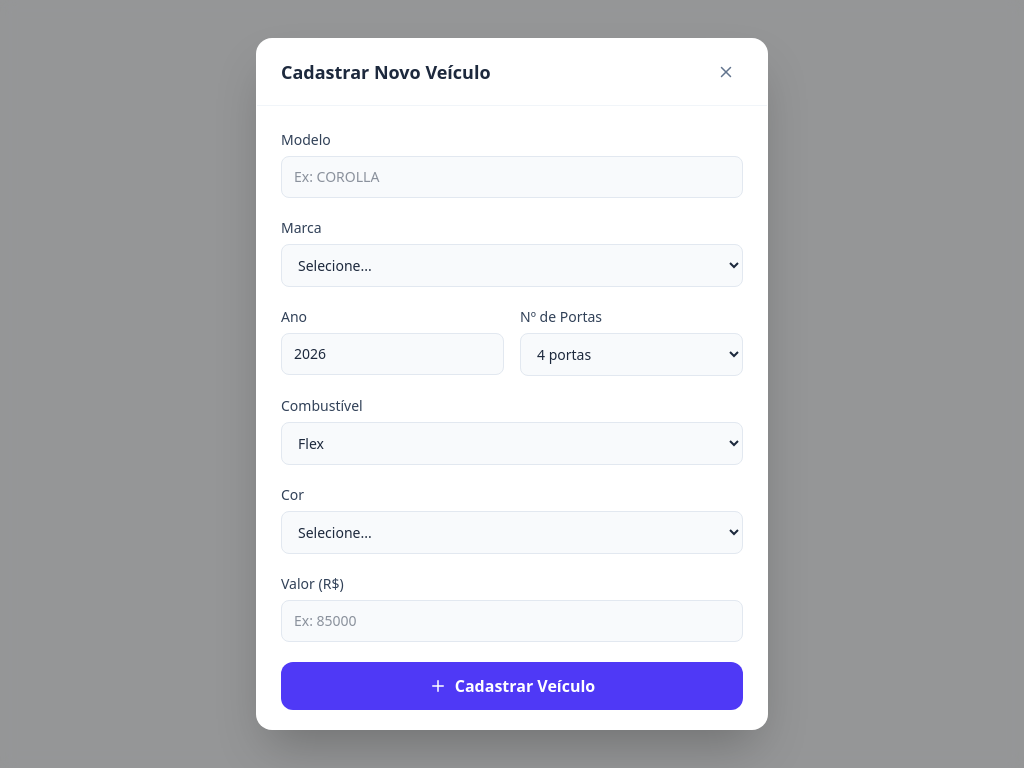
it: VehicleForm — validação › não submete com modelo muito curto
The image size is (1024, 768).
Type "A" into the field labelled "Modelo".
click(512, 177); type("A")  # box left=281, top=156, right=743, bottom=198
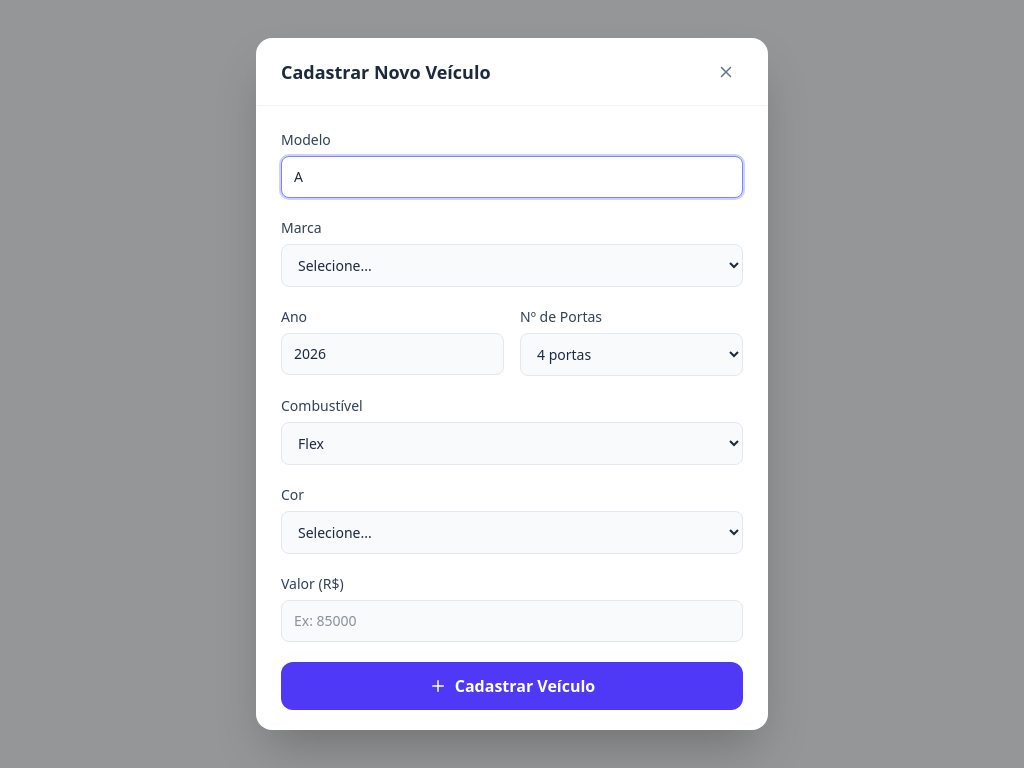
Click the button "Cadastrar Veículo".
click(512, 686)  # box left=281, top=662, right=743, bottom=710
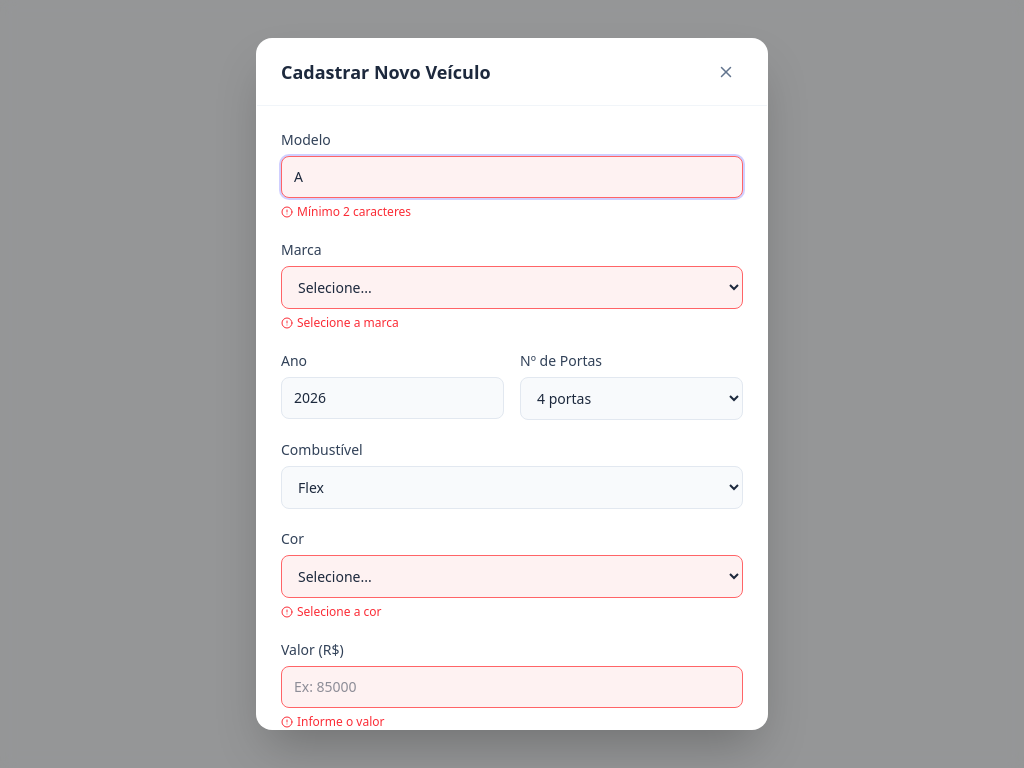
Result: the text "Mínimo 2 caracteres" is shown at left=281, top=203, right=411, bottom=220
